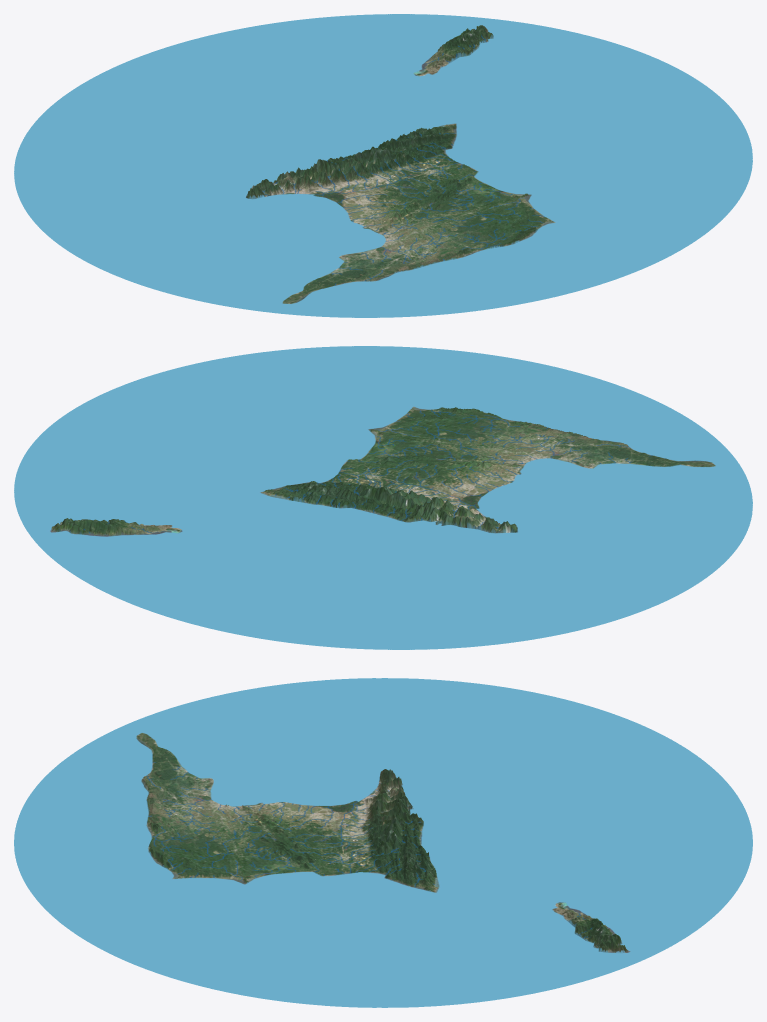
File: TTO-previa-terrain.glb
3 renders of one model, top to bottom at view 1: azimuth 30°, elevation 25°; view 2: azimuth 150°, elevation 25°; view 3: azimuth 270°, elevation 25°, orthographic. The views are drawn at different scales.
Visible parts, largest first — view 1: Trinidad e Tobago; view 2: Trinidad e Tobago; view 3: Trinidad e Tobago.
Boxes of the visible parts, x1=… form: Trinidad e Tobago: x1=14, y1=14, x2=752, y2=317; Trinidad e Tobago: x1=14, y1=346, x2=752, y2=649; Trinidad e Tobago: x1=14, y1=678, x2=752, y2=1007.
Size of the model in its own units: 2.63 by 0.0632 by 2.49.
1 material, 1 textured.
